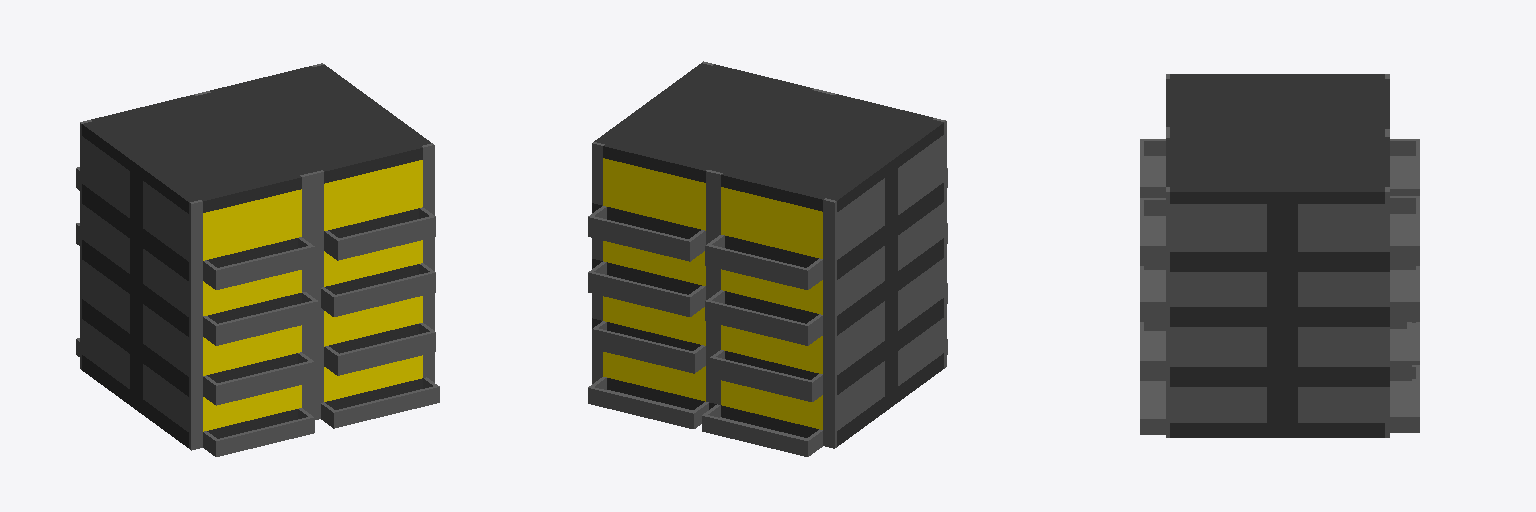
3 views of the same model, side by side, from view 1: azimuth 30°, elevation 25°; view 2: azimuth 150°, elevation 25°; view 3: azimuth 270°, elevation 25° (orthographic).
Parts seen in each view (by area): view 1: object 1; view 2: object 1; view 3: object 1.
Part boxes in pixels (left/top/right/bottom): object 1: left=76, top=63, right=439, bottom=456; object 1: left=588, top=61, right=947, bottom=456; object 1: left=1140, top=74, right=1419, bottom=437.
Bounding box in the file's own units: 6.4 × 6.2 × 6.4.
Materials: 1 (1 with a texture image).